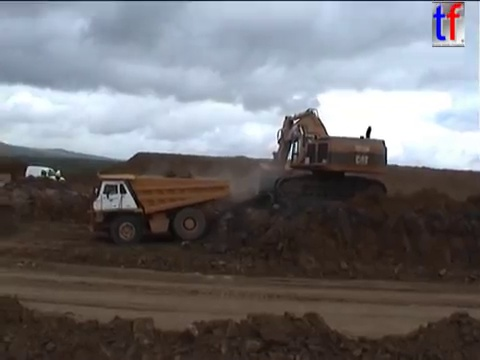excavator: (255, 106, 391, 209)
truck: (87, 169, 232, 247)
worker: (53, 166, 62, 186)
